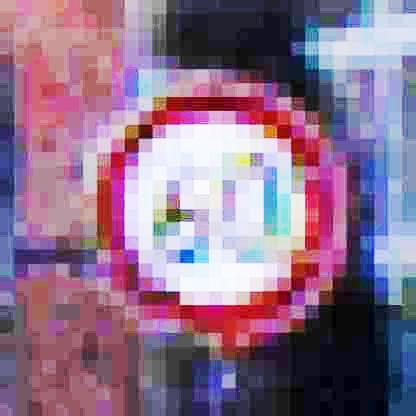Speed Limit -60-: (86, 75, 350, 348)
